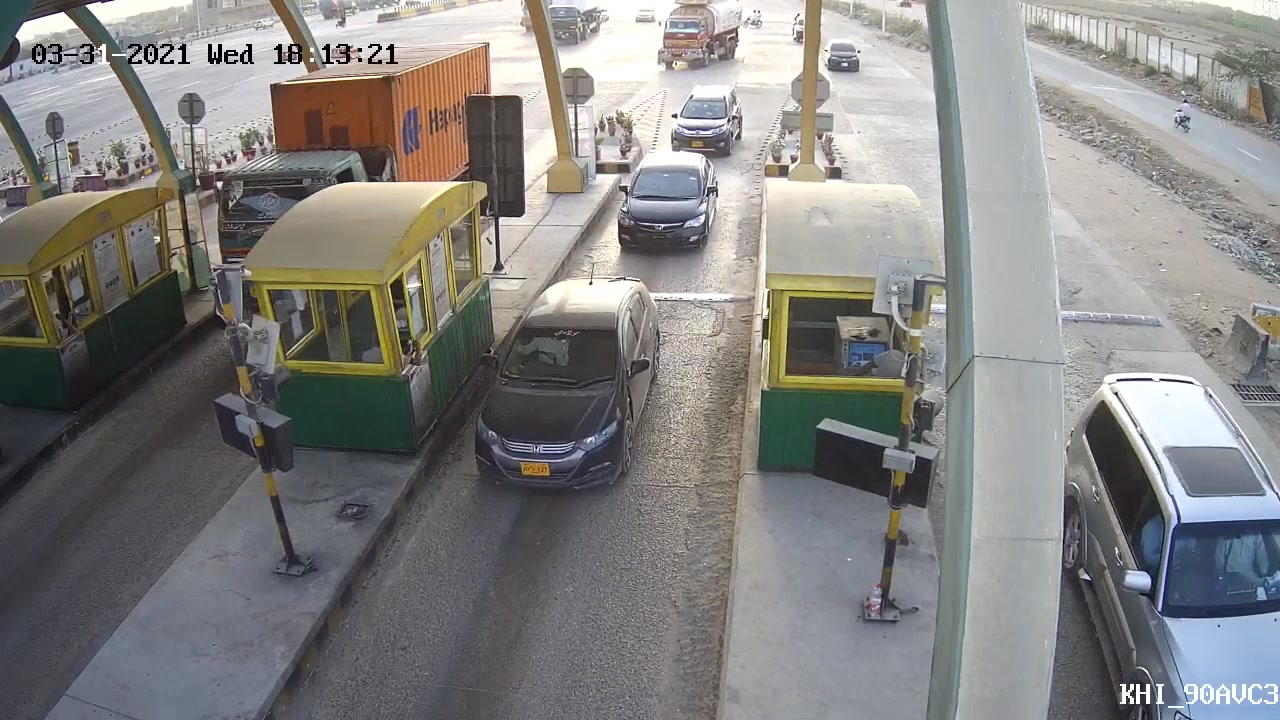F1: (467, 256, 665, 496), (596, 142, 723, 263)
